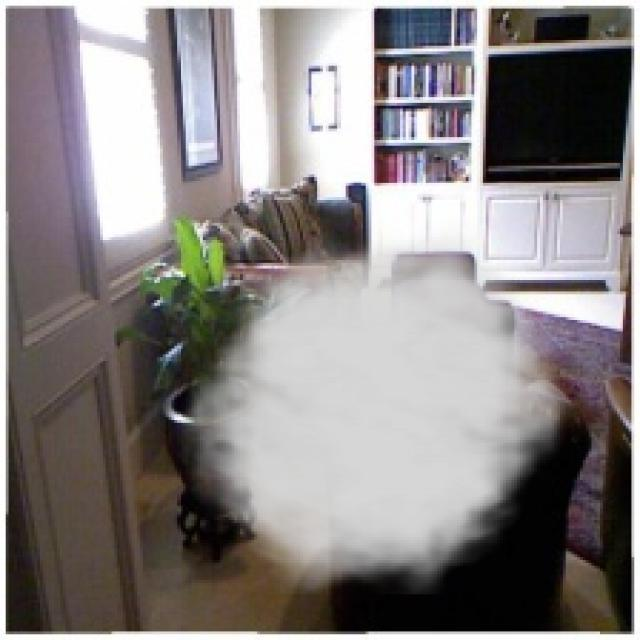smoke: (168, 217, 583, 594)
